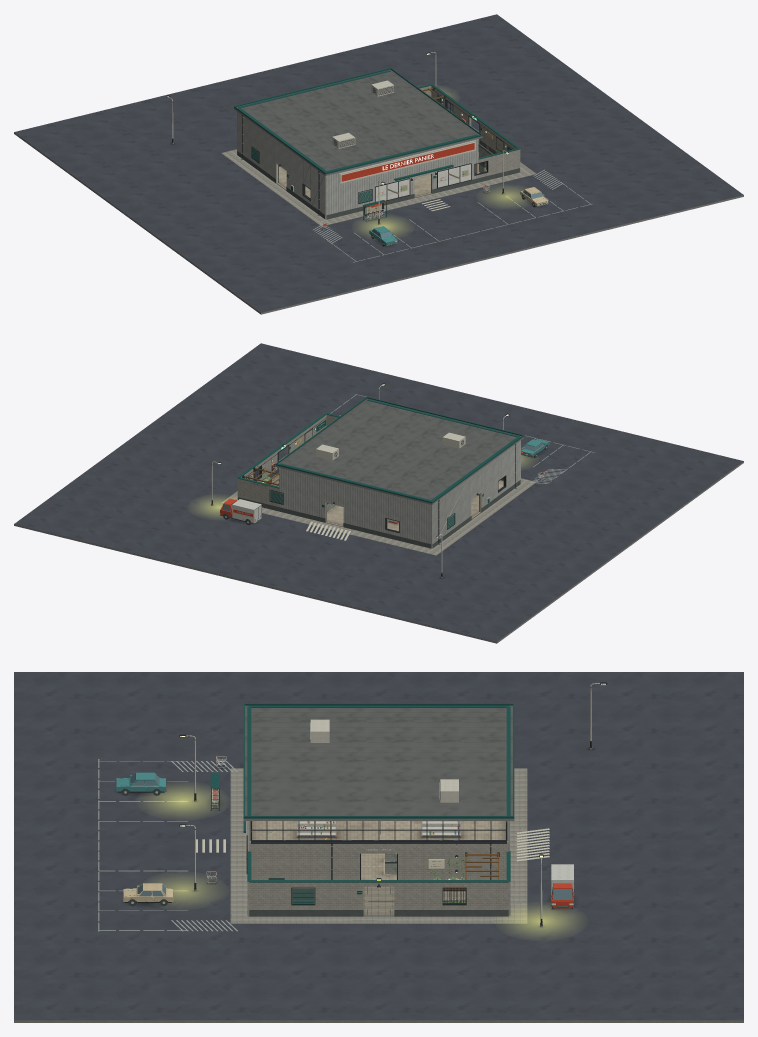
The model's file is supermarket.glb.
The picture shows the model from 3 angles, top to bottom: view 1: azimuth 30°, elevation 25°; view 2: azimuth 150°, elevation 25°; view 3: azimuth 270°, elevation 25°; orthographic projection. The views are drawn at different scales.
Visible parts, largest first — view 1: Market__Asphalt, Roof__Roof_membrane, Market__Cladding, Market__Sidewalk, Market__Metal_mint, Market__Concrete, Market__Terrace_block, Market__Metal_dark, Market__Plinth_concrete, Roof__Metal_mint, Market__Brand_red, Market__Glass_whitewash (+7 smaller); view 2: Market__Asphalt, Roof__Roof_membrane, Market__Cladding, Market__Sidewalk, Market__Concrete, Market__Metal_mint, Market__Terrace_block, Market__Plinth_concrete, Roof__Metal_mint, Market__Metal_dark, Market__Ceramic_aged, Roof__Metal_ivory (+2 smaller); view 3: Market__Asphalt, Roof__Roof_membrane, Market__Terrace_block, Market__Sidewalk, Market__Ceramic_aged, Market__Metal_mint, Market__Metal_dark, Market__Lamp_pool, Market__Concrete, Roof__Metal_mint, Market__Plinth_concrete, Market__Parking_paint_worn (+11 smaller).
Boxes of the visible parts, x1,y1,x2,y2 form: Market__Asphalt: [14, 14, 743, 312]; Roof__Roof_membrane: [236, 69, 479, 172]; Market__Cladding: [237, 111, 478, 219]; Market__Sidewalk: [221, 109, 536, 226]; Market__Metal_mint: [238, 70, 520, 221]; Market__Concrete: [14, 132, 743, 314]; Market__Terrace_block: [419, 85, 520, 177]; Market__Metal_dark: [166, 52, 542, 245]; Market__Plinth_concrete: [237, 140, 519, 219]; Roof__Metal_mint: [234, 68, 482, 174]; Market__Brand_red: [323, 143, 486, 225]; Market__Glass_whitewash: [375, 164, 470, 201]; Market__Asphalt: [14, 343, 743, 641]; Roof__Roof_membrane: [278, 398, 521, 501]; Market__Cladding: [279, 440, 520, 548]; Market__Sidewalk: [222, 455, 536, 555]; Market__Concrete: [14, 461, 743, 643]; Market__Metal_mint: [237, 399, 519, 529]; Market__Terrace_block: [237, 414, 338, 506]; Market__Plinth_concrete: [238, 469, 520, 548]; Roof__Metal_mint: [275, 397, 523, 503]; Market__Metal_dark: [211, 383, 540, 576]; Market__Ceramic_aged: [326, 480, 503, 531]; Roof__Metal_ivory: [316, 432, 465, 460]; Market__Asphalt: [14, 672, 743, 1020]; Roof__Roof_membrane: [245, 705, 512, 815]; Market__Terrace_block: [248, 841, 509, 915]; Market__Sidewalk: [230, 768, 527, 923]; Market__Ceramic_aged: [252, 821, 505, 879]; Market__Metal_mint: [210, 705, 510, 904]; Market__Metal_dark: [117, 682, 607, 925]; Market__Lamp_pool: [149, 787, 574, 935]; Market__Concrete: [14, 747, 743, 1022]; Roof__Metal_mint: [243, 703, 514, 818]; Market__Plinth_concrete: [247, 882, 510, 916]; Market__Parking_paint_worn: [98, 759, 237, 931].
Size of the model in its own units: 70 by 11.21 by 62.
Materials: 88 (38 with a texture image).
